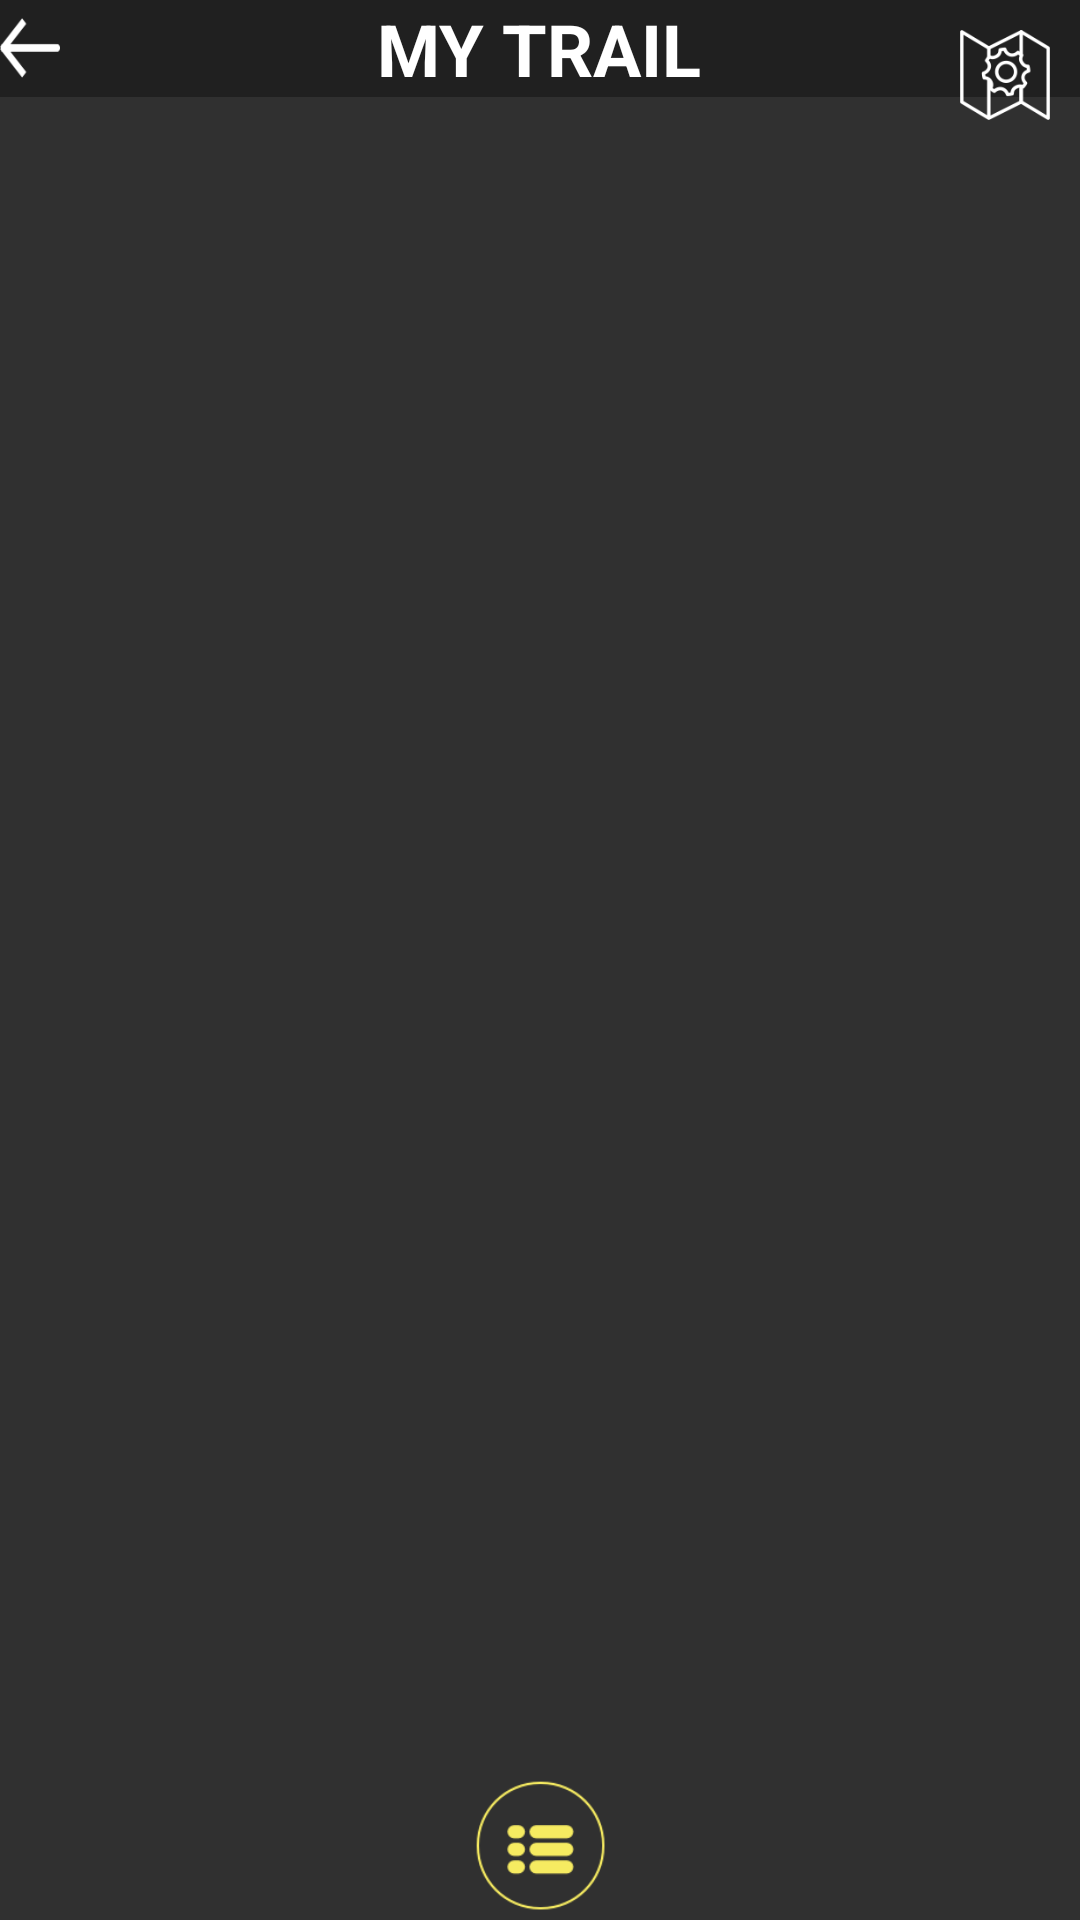

Named icons in this screenshot (1080px x 1920px) and their centers, [x,y]:
back arrow: [30,48]
